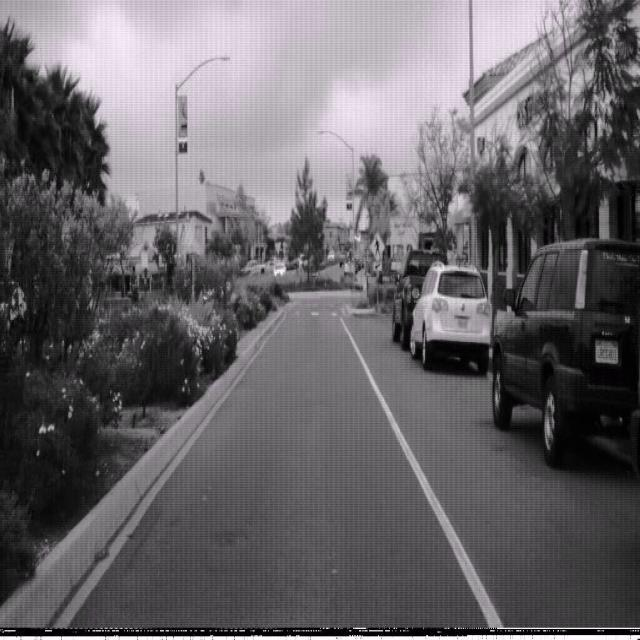pedestrianCrossing: (368, 230, 386, 262)
